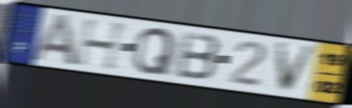2: (228, 40, 268, 88)
A: (28, 13, 81, 68)
B: (174, 29, 222, 82)
H: (74, 17, 131, 73)
Q: (131, 26, 178, 76)
V: (274, 41, 320, 94)
